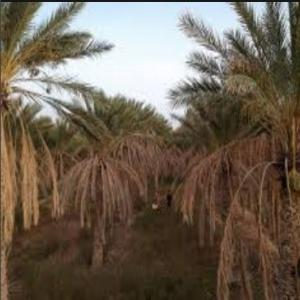palm tree: (168, 0, 299, 299), (0, 0, 114, 299)
